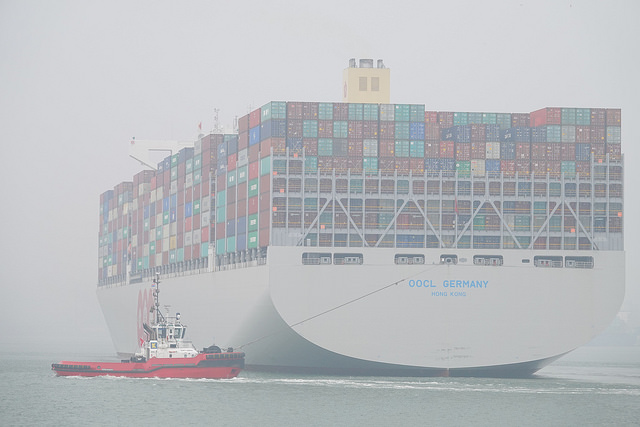container_ship: (94, 58, 626, 378)
tug_boat: (47, 270, 245, 380)
